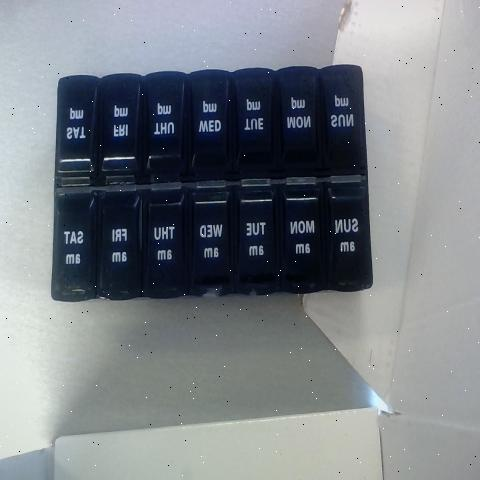FRI-am: (99, 196, 135, 290)
FRI-pm: (101, 78, 139, 186)
MON-am: (283, 182, 327, 285)
MON-pm: (278, 67, 318, 178)
SAT-am: (55, 196, 94, 292)
SAT-pm: (58, 75, 96, 185)
SUN-am: (330, 184, 365, 281)
SUN-pm: (323, 67, 361, 179)
THU-am: (144, 196, 184, 292)
THU-pm: (146, 71, 186, 179)
TUE-am: (238, 181, 278, 284)
TUE-pm: (236, 67, 278, 178)
WED-am: (192, 186, 233, 290)
WED-pm: (188, 71, 230, 183)
